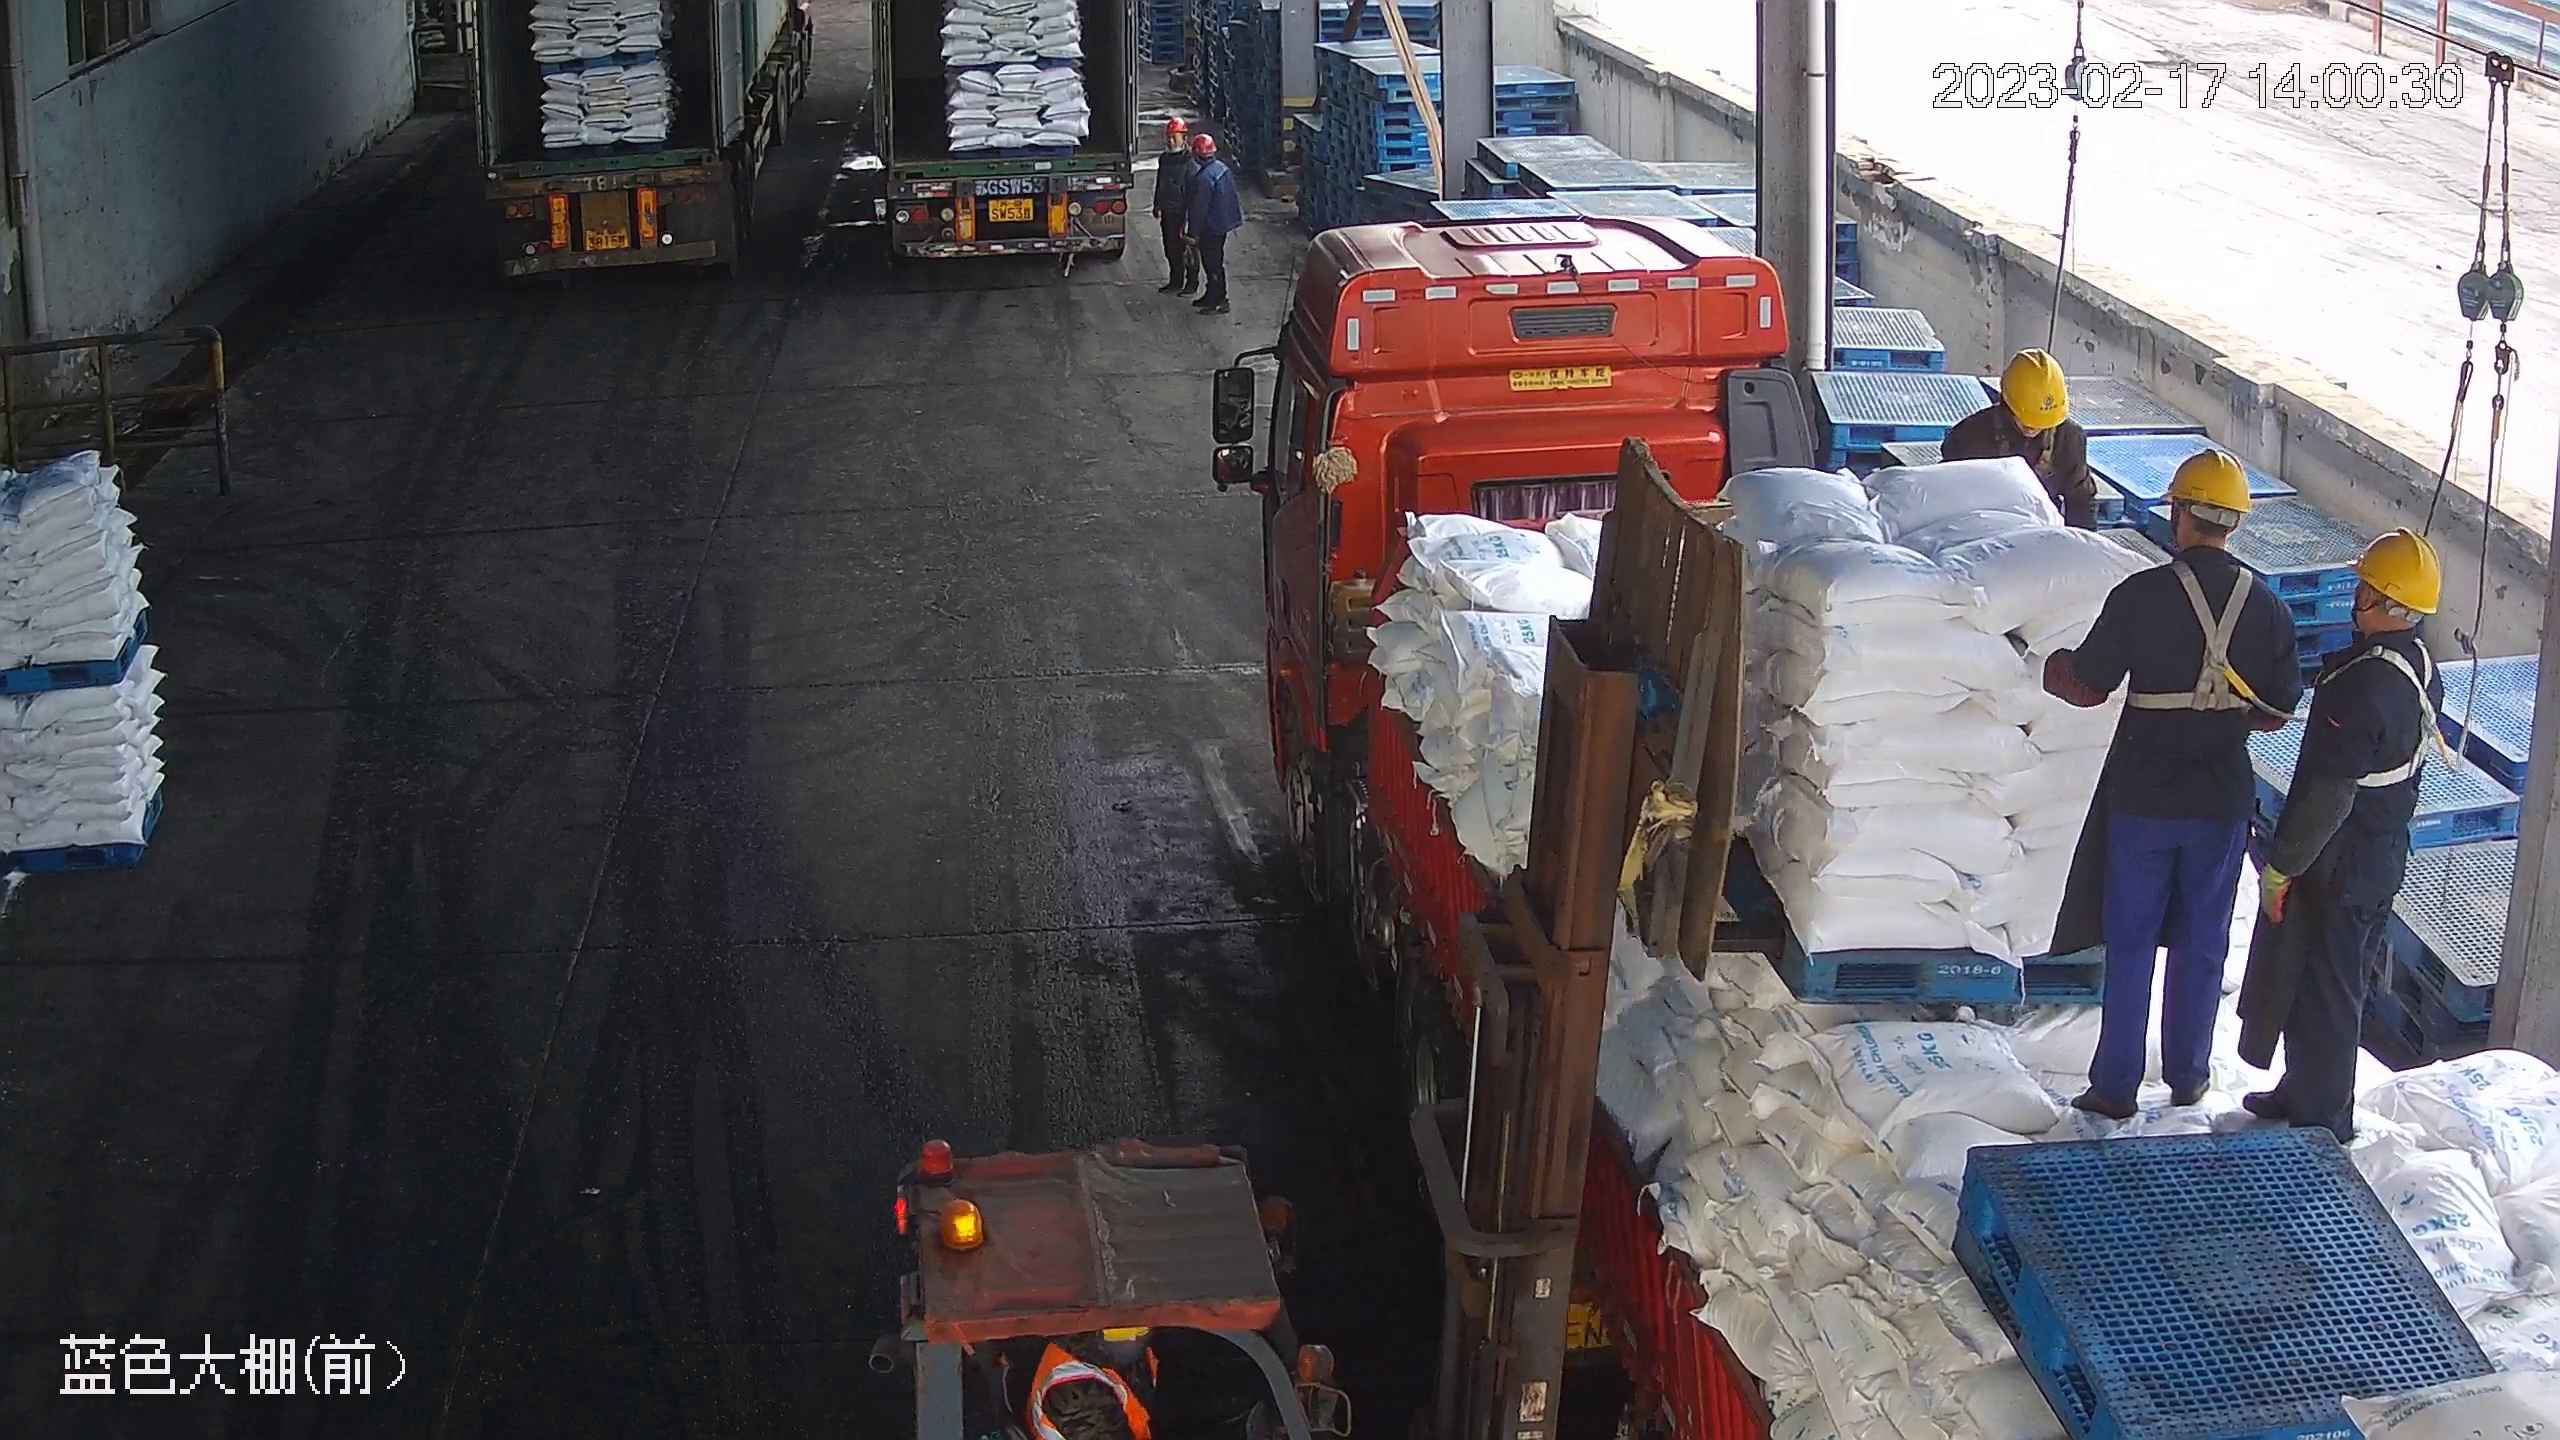belt: (2119, 552, 2264, 724), (2331, 632, 2446, 790), (1996, 404, 2062, 470)
head: (2092, 444, 2295, 645), (2288, 524, 2444, 725), (1948, 344, 2089, 472), (1151, 116, 1199, 174), (1182, 131, 1228, 188)
helmet: (2349, 524, 2444, 613), (2159, 446, 2254, 516), (1997, 345, 2069, 429), (1191, 133, 1218, 154), (1165, 116, 1190, 133)
people: (2031, 447, 2303, 1125), (2226, 520, 2444, 1149), (1181, 129, 1235, 316), (1149, 120, 1197, 291)
truck: (1203, 195, 2557, 1440), (468, 2, 820, 281), (859, 2, 1143, 274)
